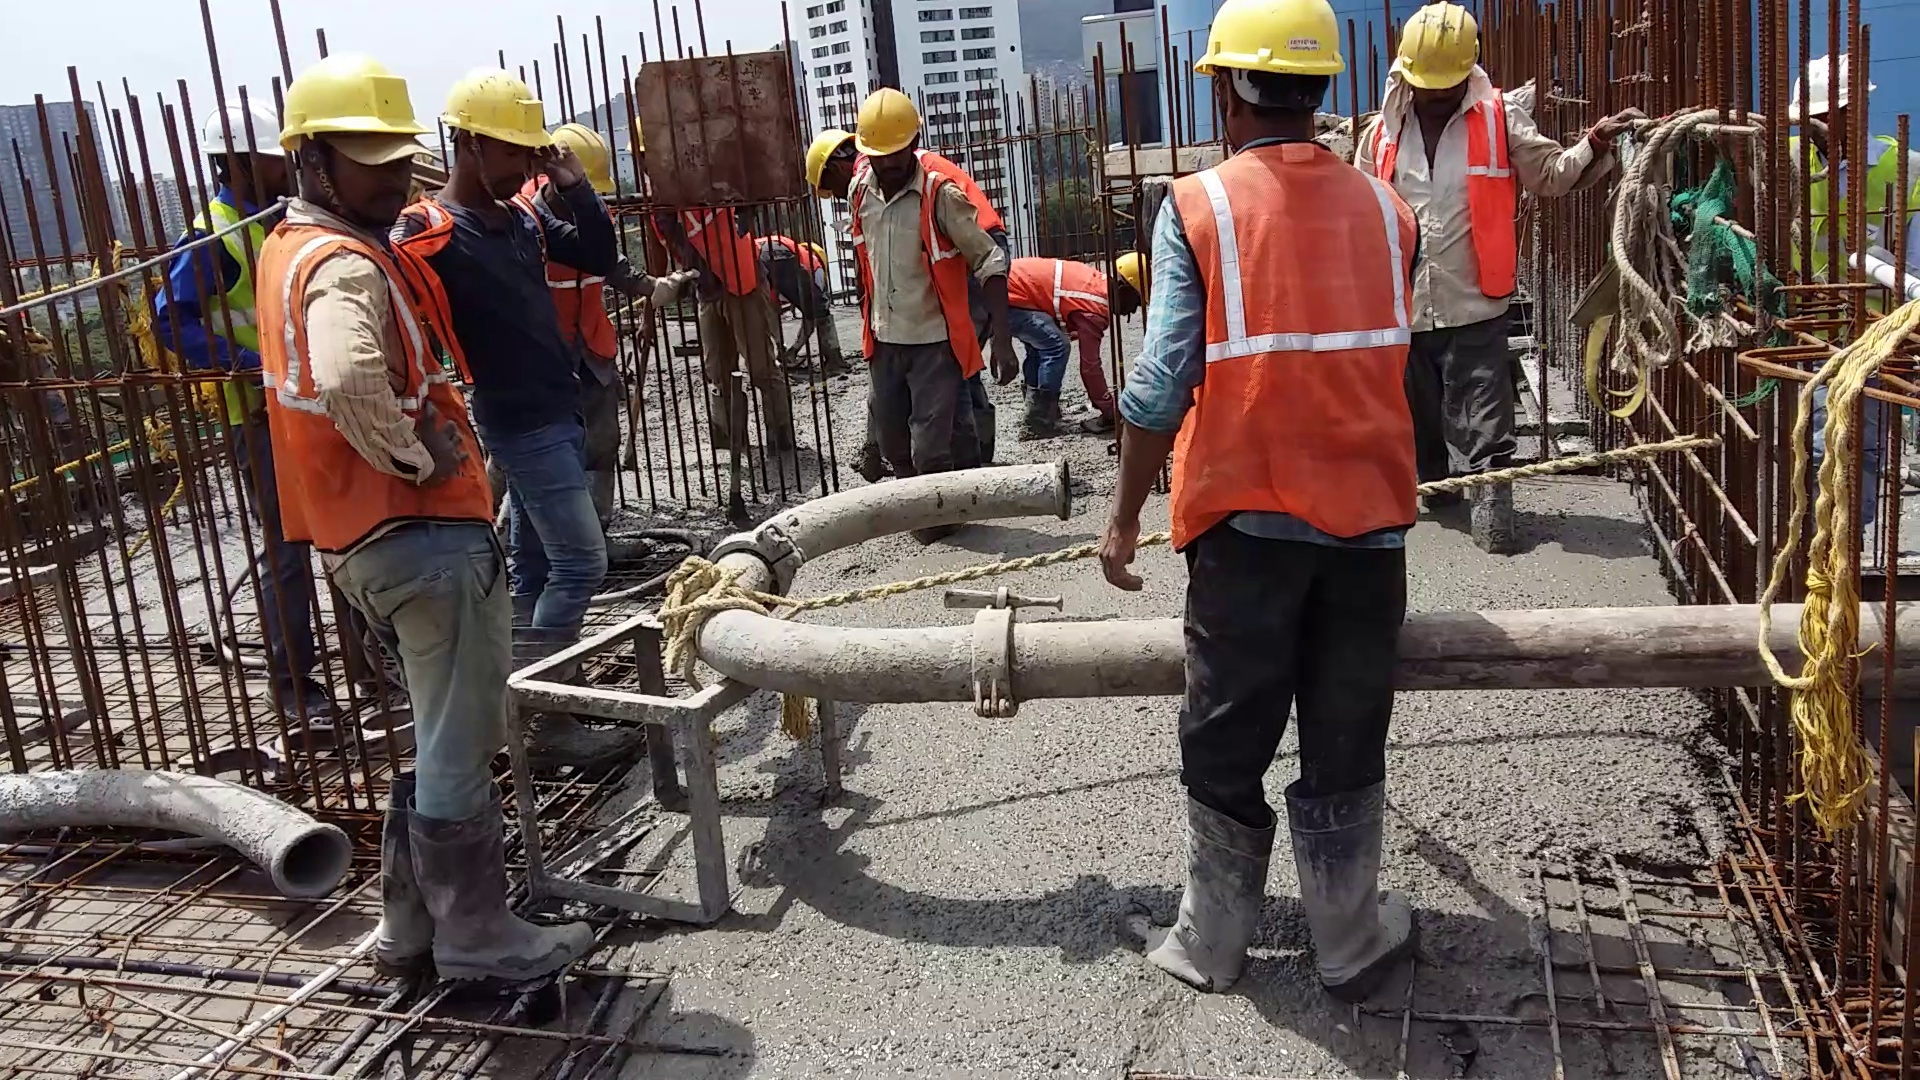SAFE: (1191, 1, 1398, 533), (266, 51, 442, 541), (844, 86, 977, 365), (1408, 1, 1514, 334), (998, 235, 1146, 326)
